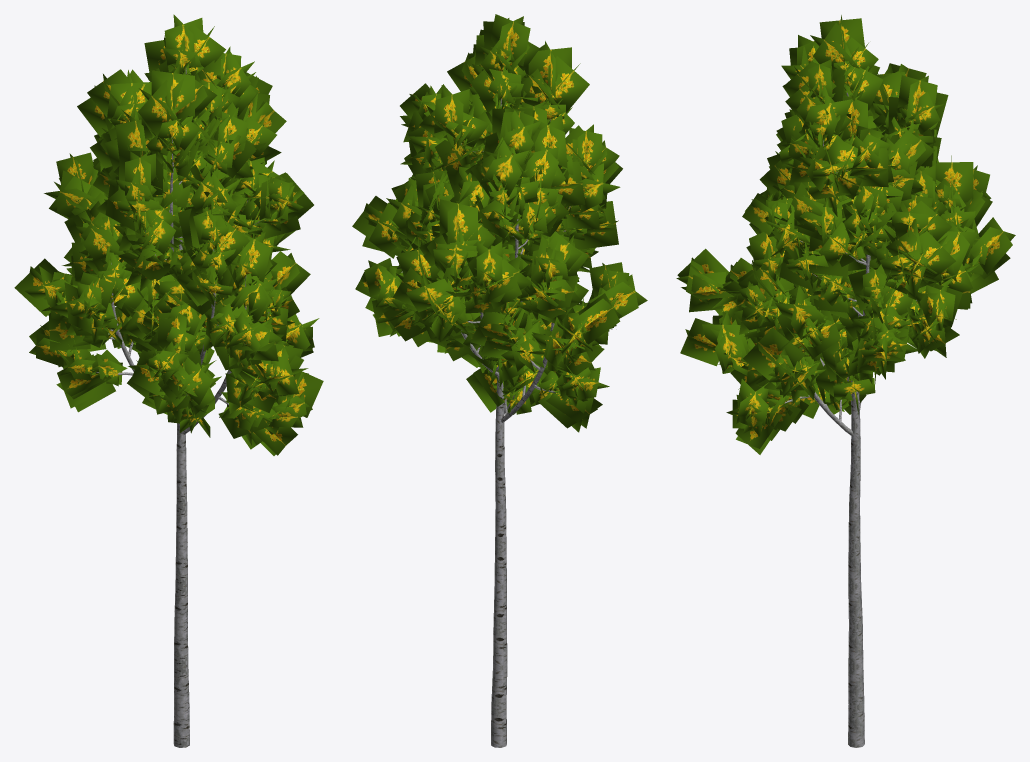
The model's file is birch-lod0.glb.
3 views of the same model, side by side, from view 1: azimuth 30°, elevation 25°; view 2: azimuth 150°, elevation 25°; view 3: azimuth 270°, elevation 25° (orthographic).
Visible parts, largest first — view 1: leaves, branches; view 2: leaves, branches; view 3: leaves, branches.
Part boxes in pixels (x1,y1,x2,y2): leaves: [14, 14, 323, 455]; branches: [96, 67, 269, 747]; leaves: [352, 14, 647, 432]; branches: [438, 98, 574, 747]; leaves: [676, 15, 1015, 454]; branches: [758, 92, 936, 747].
Bounding box in the file's own units: 38.07 × 105 × 44.69.
2 materials, 2 textured.
